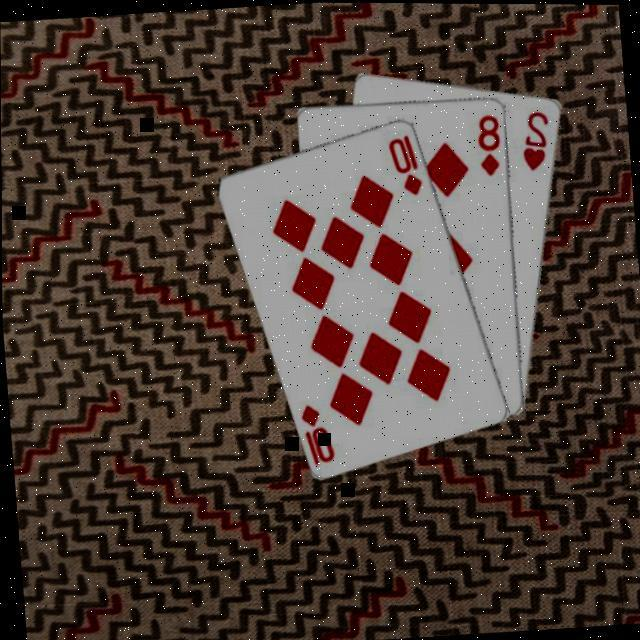10D: (386, 129, 427, 197), (298, 398, 338, 467)
2H: (518, 105, 556, 171)
8D: (476, 108, 506, 176)
